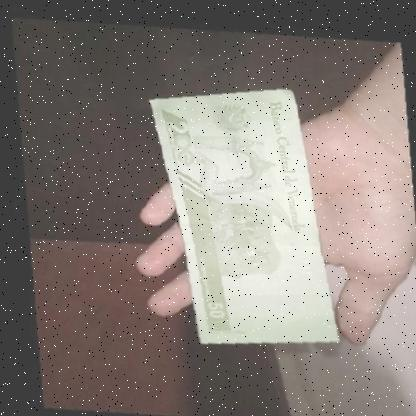fifty-back-vef: (132, 65, 349, 358)
